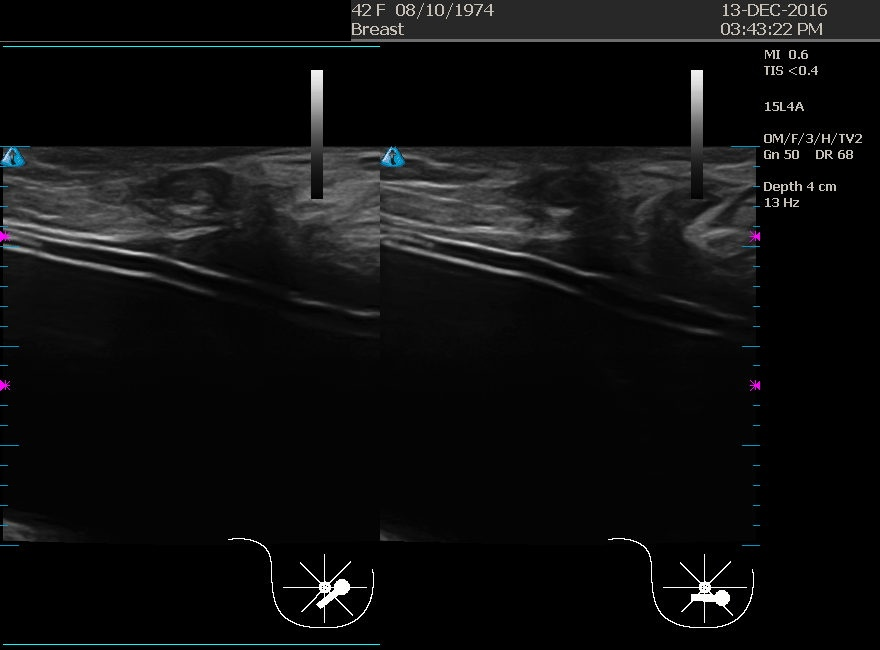BIRADS_2: (85, 152, 285, 354)
BIRADS_3: (458, 151, 658, 352)
